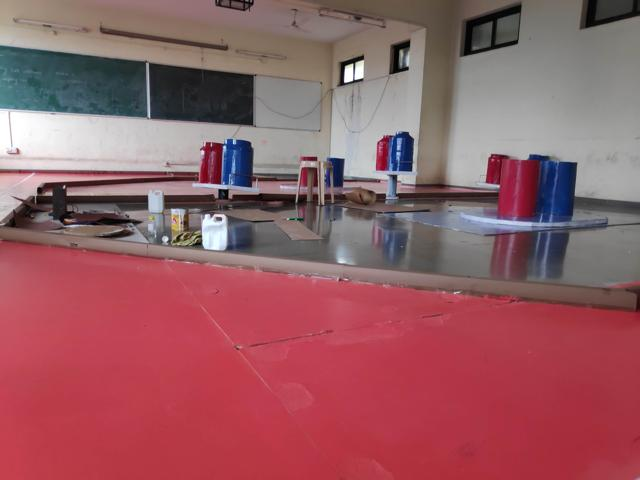Blue: (541, 162, 577, 218), (225, 139, 253, 188), (389, 130, 415, 171), (324, 160, 345, 188)
Red: (497, 160, 540, 218), (198, 143, 221, 181), (486, 153, 504, 184), (377, 134, 390, 172)
